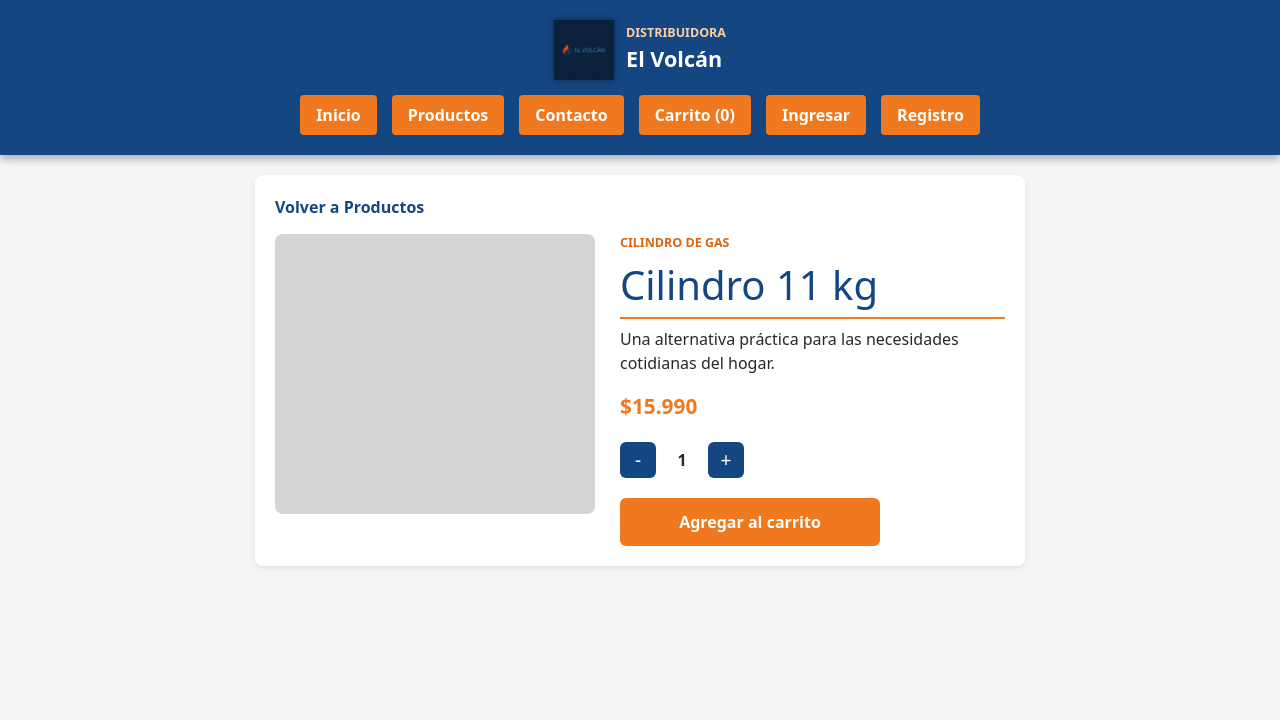
Test case: muestra el detalle y actualiza el contador al agregar al carrito
Click the button named "Aumentar cantidad". click: x=726, y=460
box: [708,442,744,478]
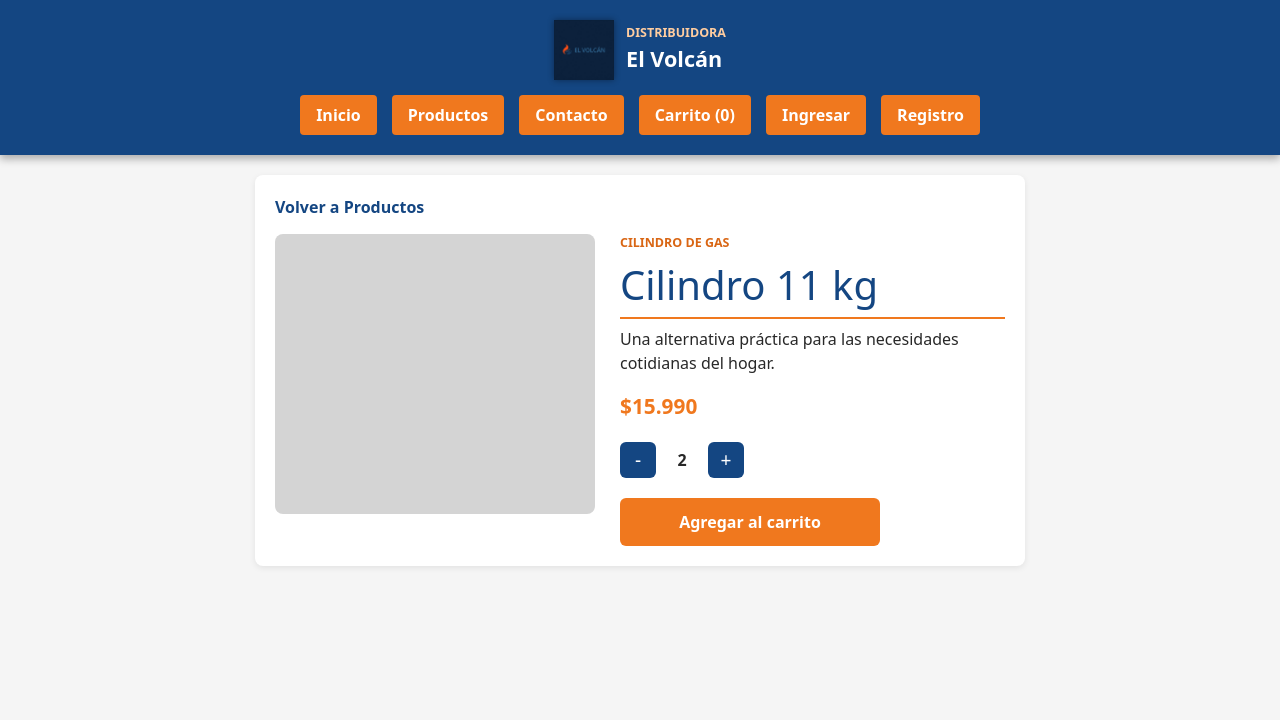
Click the button "Agregar al carrito". click: x=750, y=522
box: [620,498,880,546]
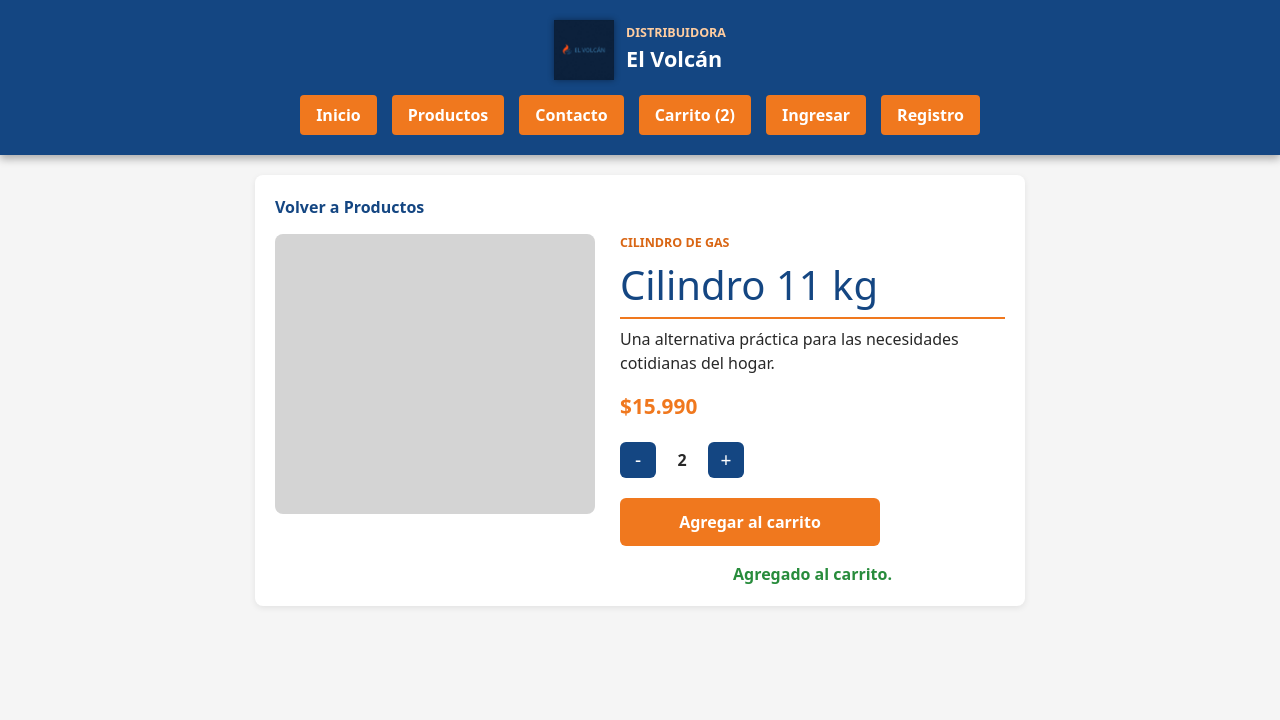
expect the heading "Cilindro 11 kg" is shown: met, box [620,261,1005,319]
expect the link "Carrito (2)" is shown: met, box [639,95,751,135]
expect the text "Agregado al carrito." is shown: met, box [733,563,892,585]
